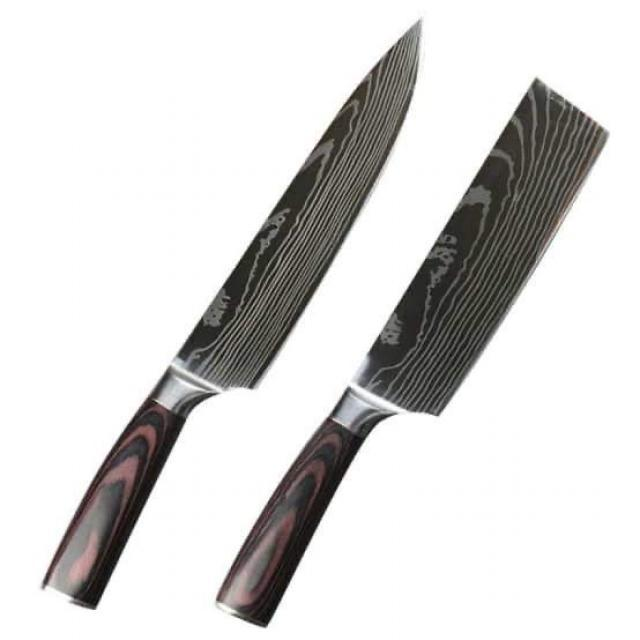Knife: (33, 14, 617, 634)
